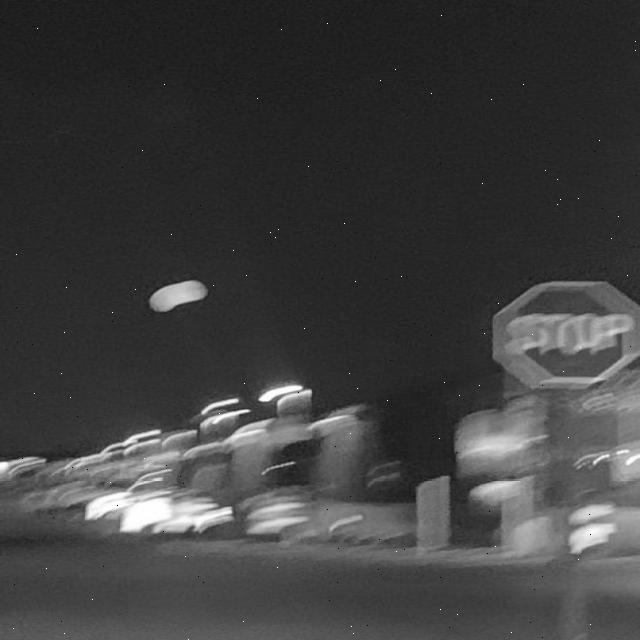Stop-sign: (475, 269, 640, 404)
